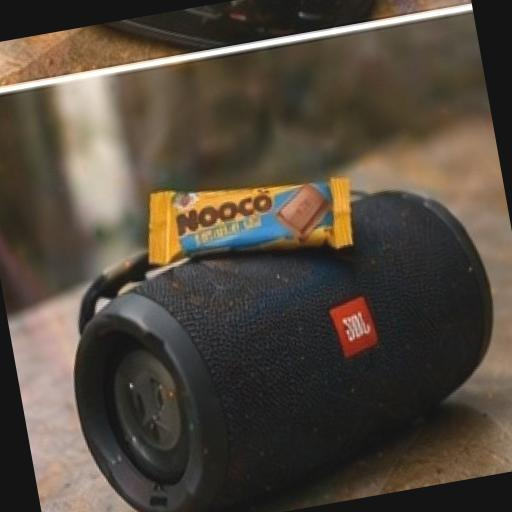nooco: (118, 104, 380, 316)
